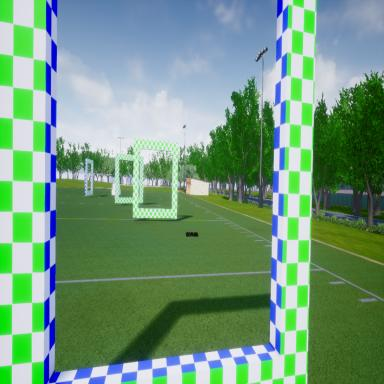gate: (0, 0, 318, 384), (134, 136, 179, 221), (115, 149, 144, 203), (84, 154, 95, 198)
